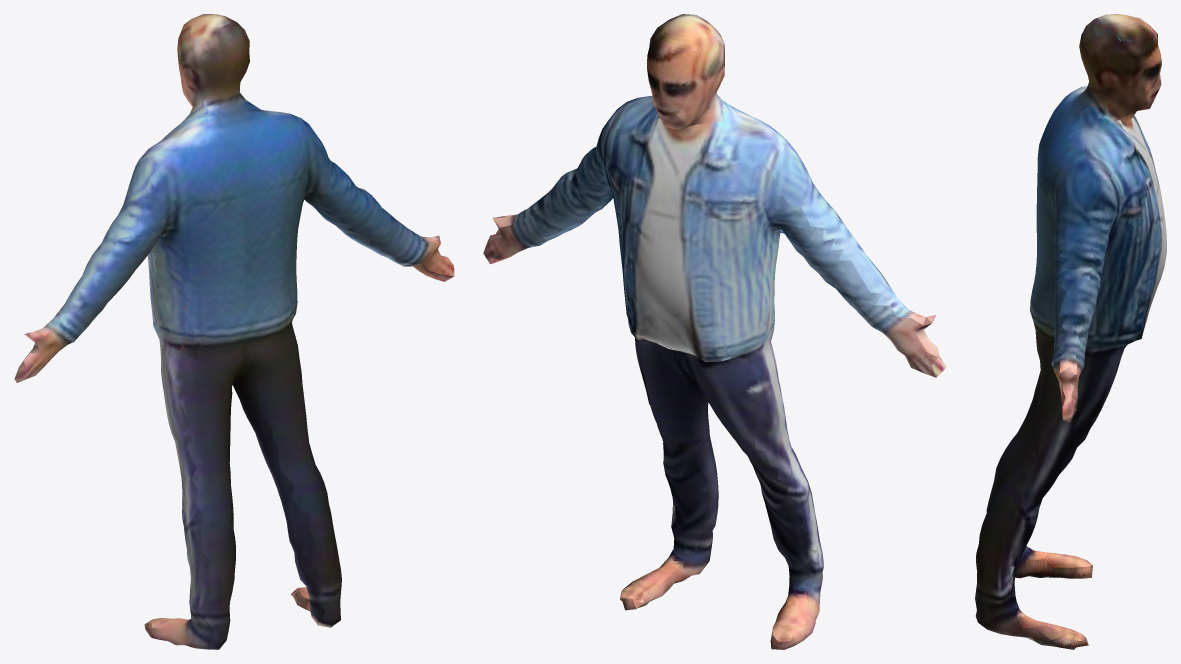
3 views of the same model, side by side, from view 1: azimuth 30°, elevation 25°; view 2: azimuth 150°, elevation 25°; view 3: azimuth 270°, elevation 25° (orthographic). The views are drawn at different scales.
Parts seen in each view (by area): view 1: world; view 2: world; view 3: world.
Boxes of the visible parts, box(x1,y1,x2,y2) form: world: box(14, 14, 454, 649); world: box(483, 14, 946, 649); world: box(975, 14, 1166, 649).
Bounding box in the file's own units: 0.783 × 1 × 0.2931.
Materials: 1 (1 with a texture image).
